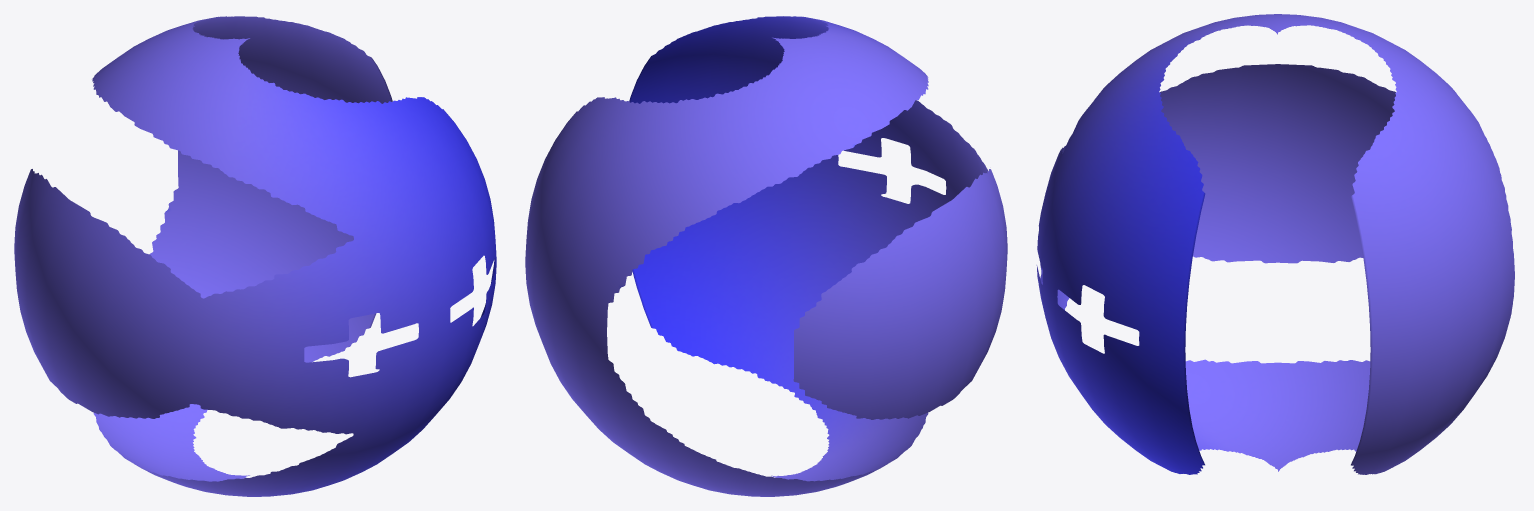
The model's file is basic.obj.
3 renders of one model, left to right at view 1: azimuth 30°, elevation 25°; view 2: azimuth 150°, elevation 25°; view 3: azimuth 270°, elevation 25°, orthographic.
Parts seen in each view (by area): view 1: sphere; view 2: sphere; view 3: sphere.
Part boxes in pixels (x1,y1,x2,y2): sphere: [14, 16, 496, 496]; sphere: [525, 16, 1007, 496]; sphere: [1036, 14, 1514, 474].
Size of the model in its own units: 0.2 by 0.2 by 0.2.
1 material, 1 textured.
